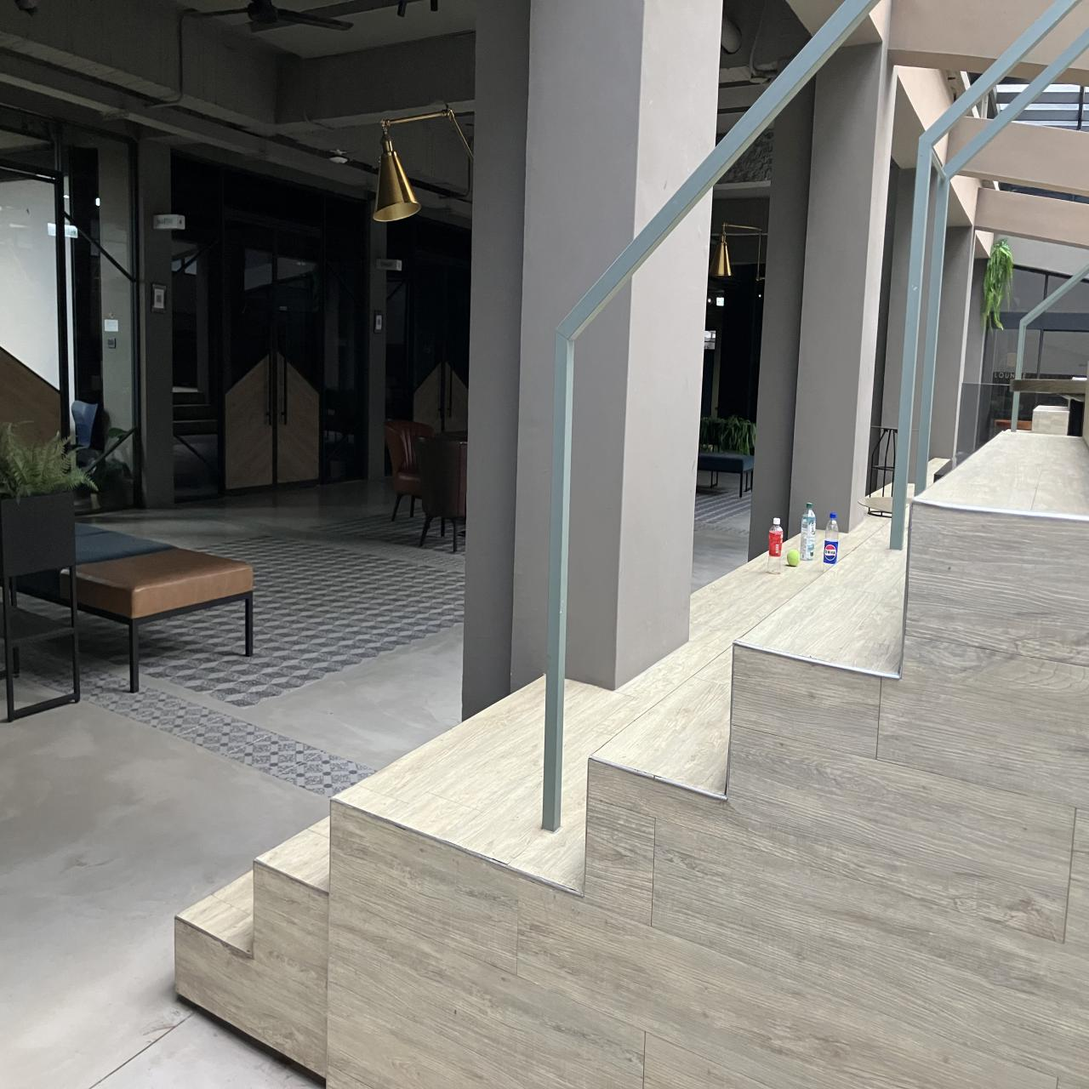plastic-bottle: (799, 502, 817, 561), (768, 518, 783, 573), (824, 512, 839, 564)
tennisball: (787, 549, 800, 566)
